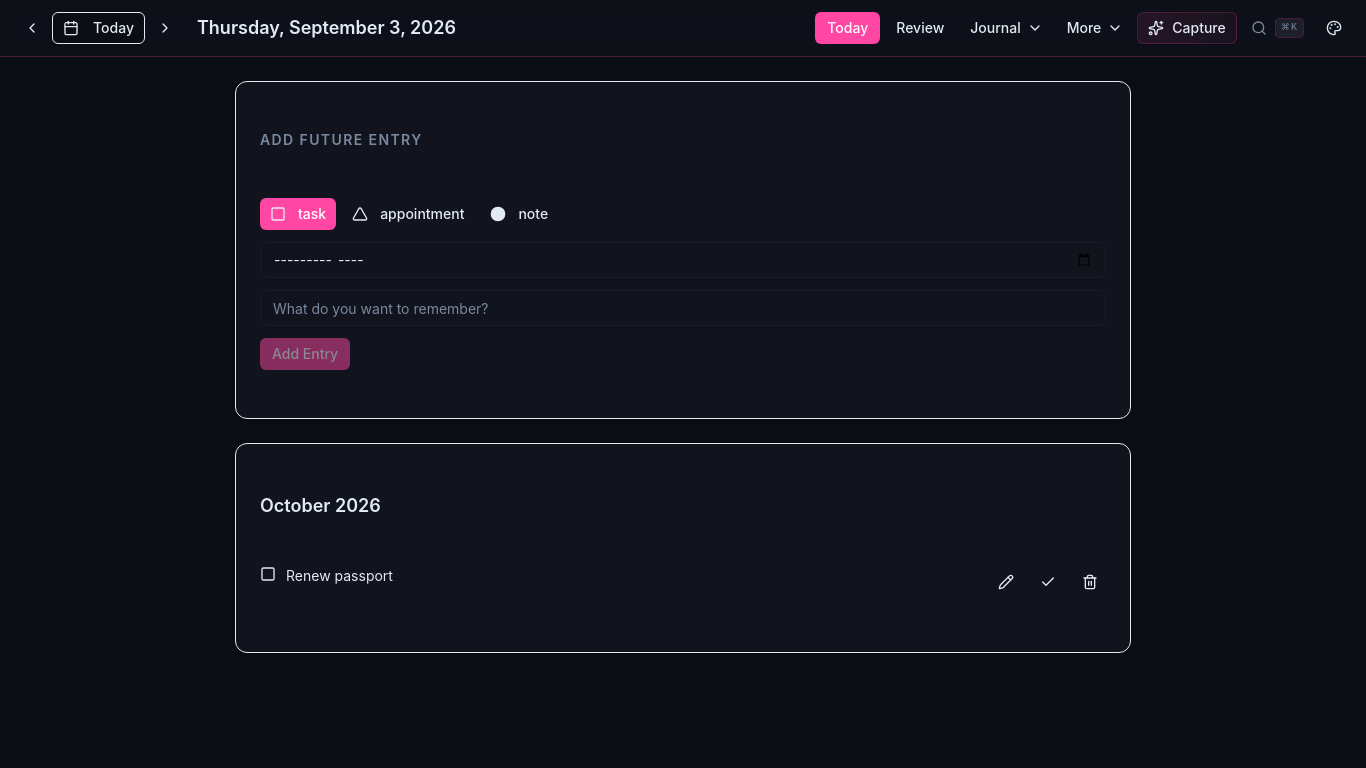
Test: Future Log lifecycle › keeps the edit draft open and offers retry when updating fails
The width and height of the screenshot is (1366, 768).
Click the button named "Edit Renew passport" at (1006, 582), box [990,566,1022,598]
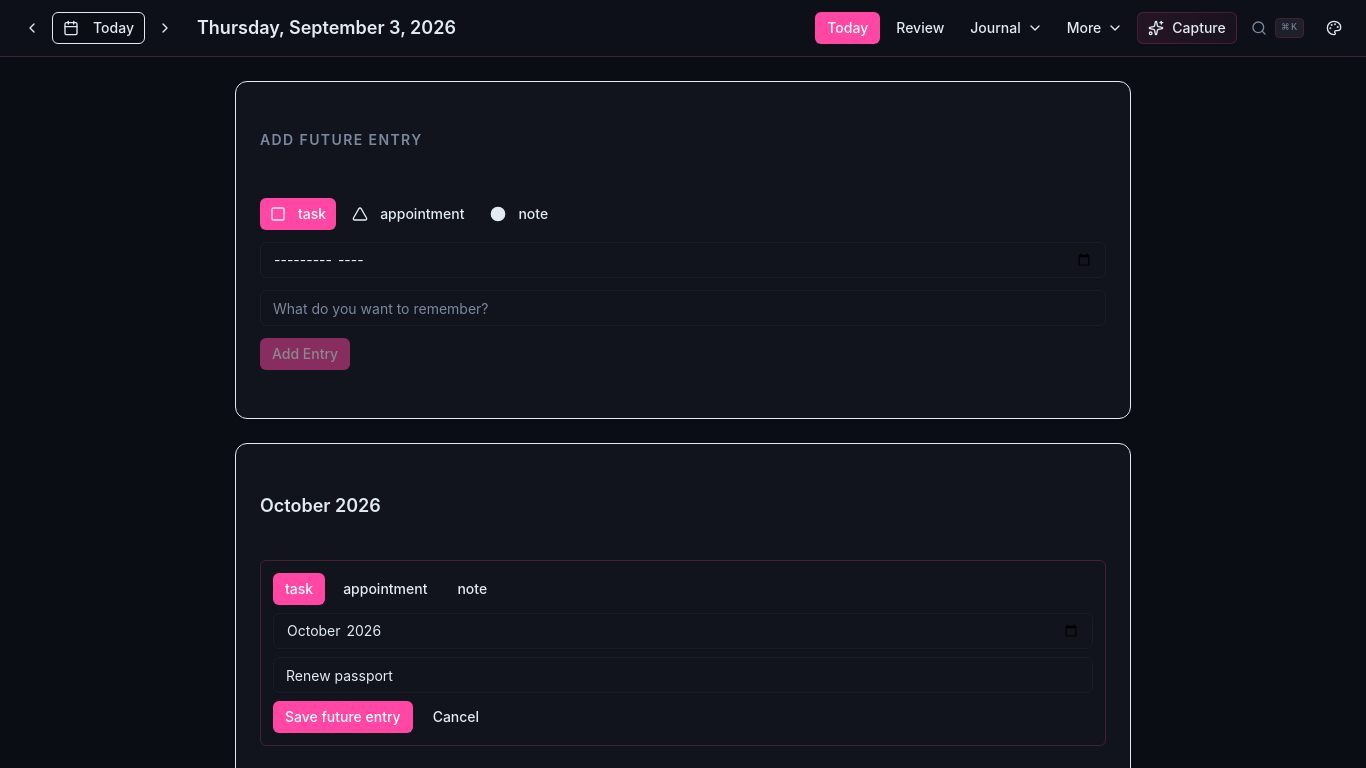
Replace the text in the field named "Edit future entry text" with "Renew passports soon" at (683, 675), box [273,657,1093,693]
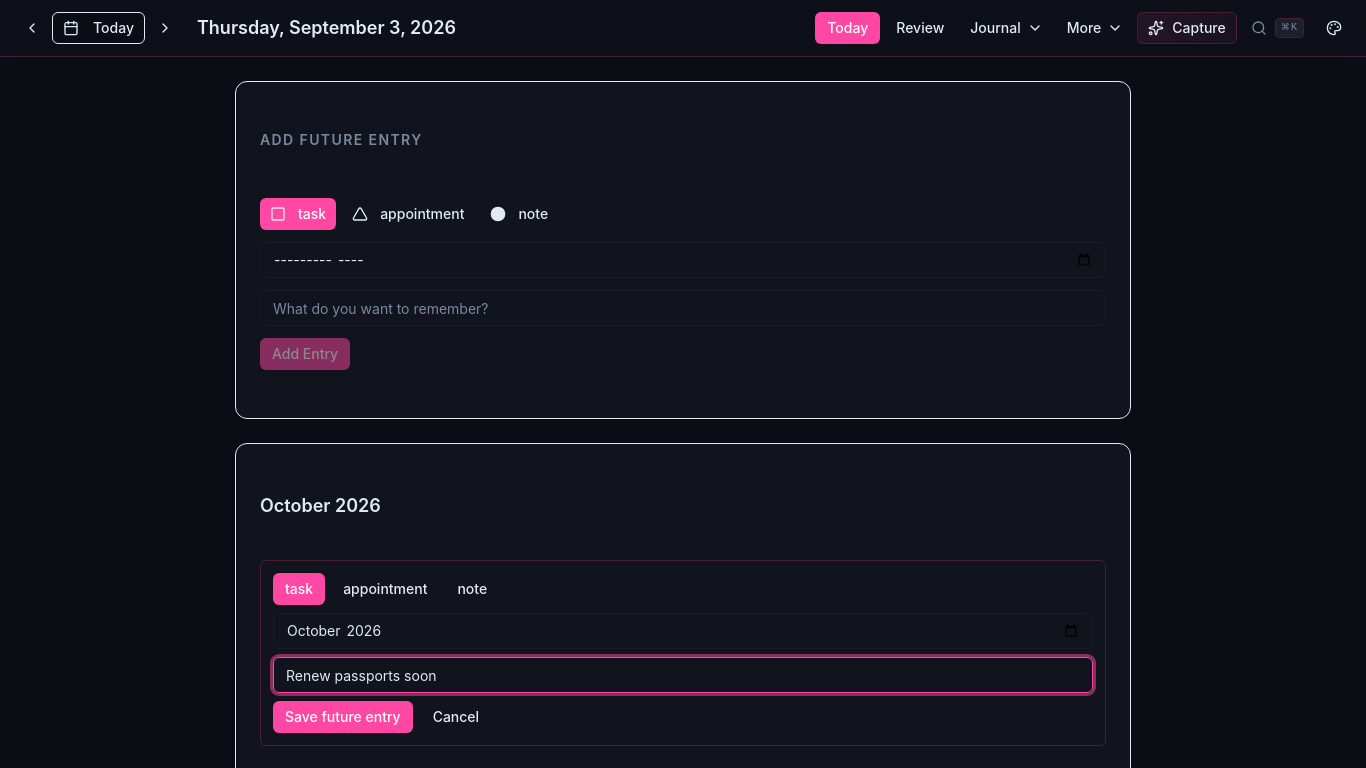
Click the button "Save future entry" at (343, 717), box [273,701,413,733]
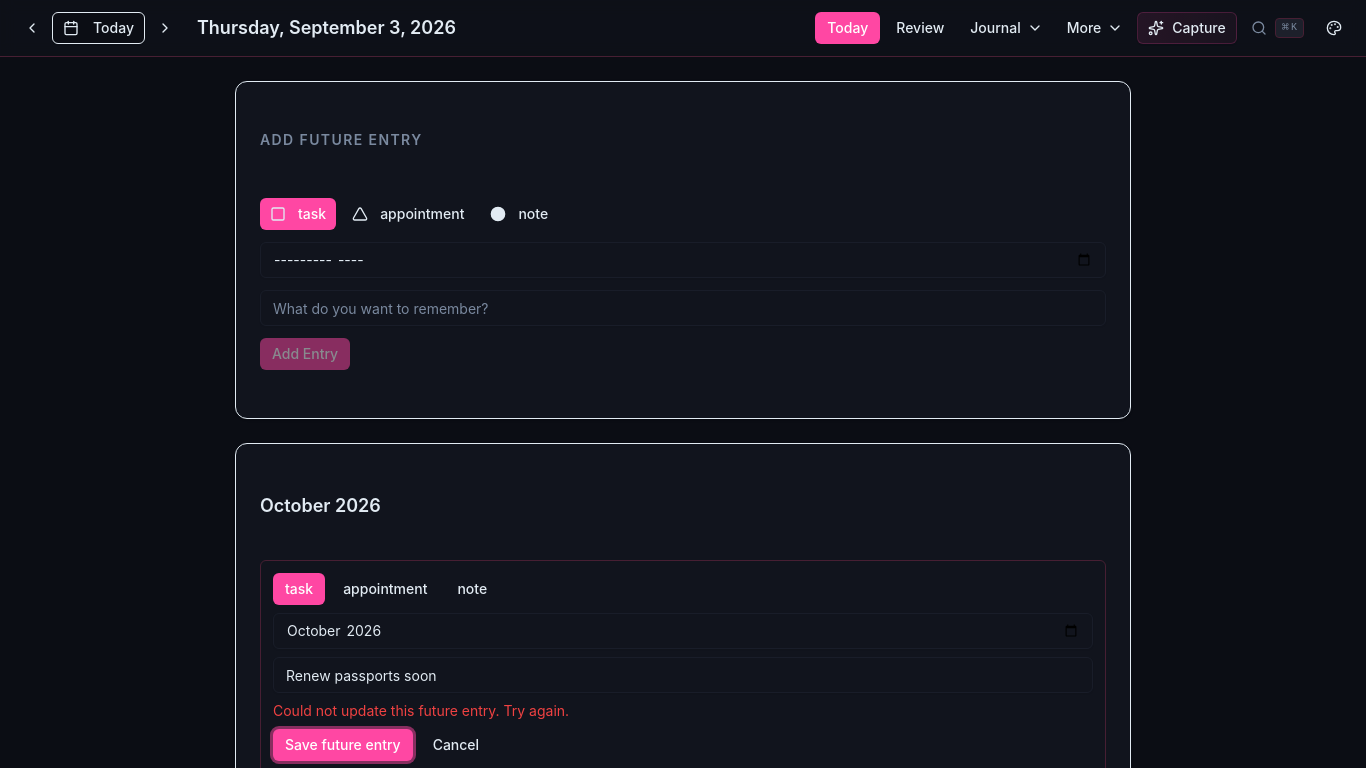
Expected: the button "Save future entry" is shown, [273,729,413,761]
Expected: the message reads "Could not update this future entry. Try again.", [273,702,569,719]
